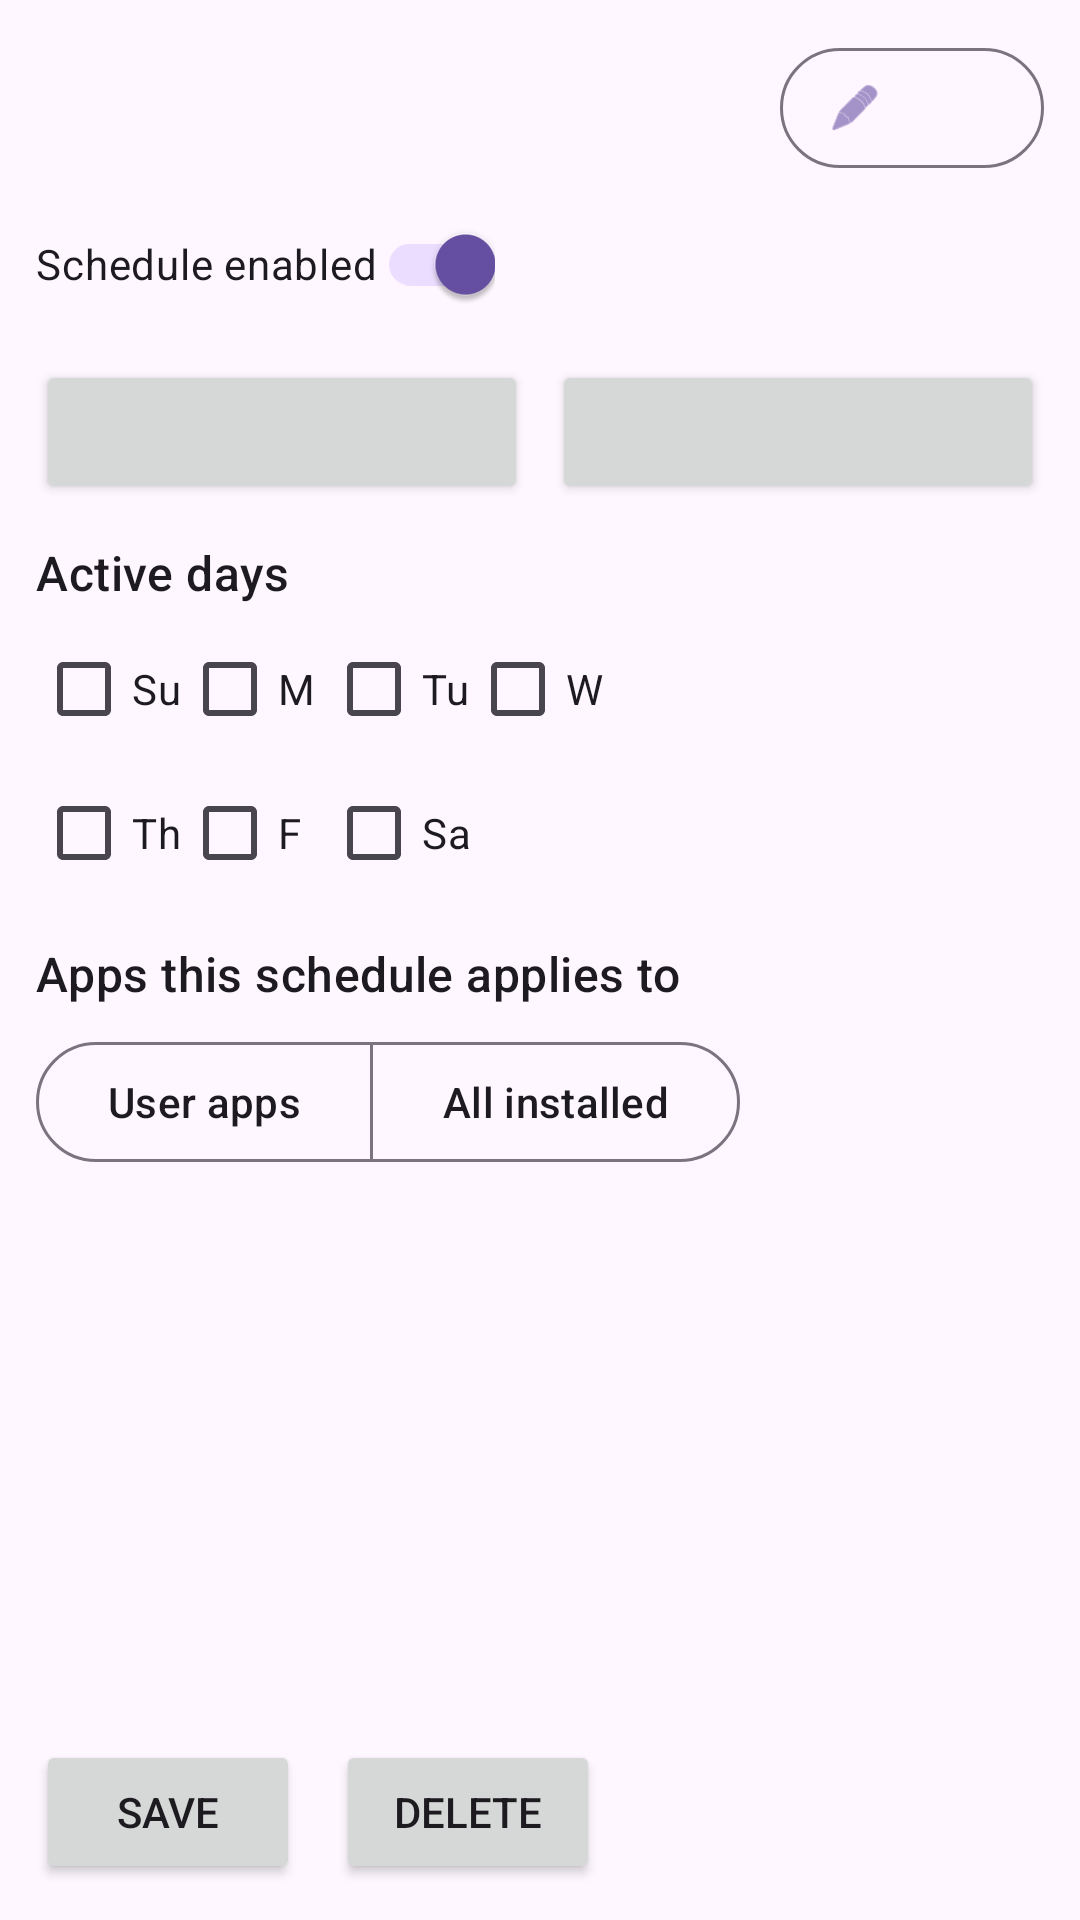

Screen size 1080x1920. Icon name, then its center in pixels as [x,y]:
Edit schedule name: [912,108]
